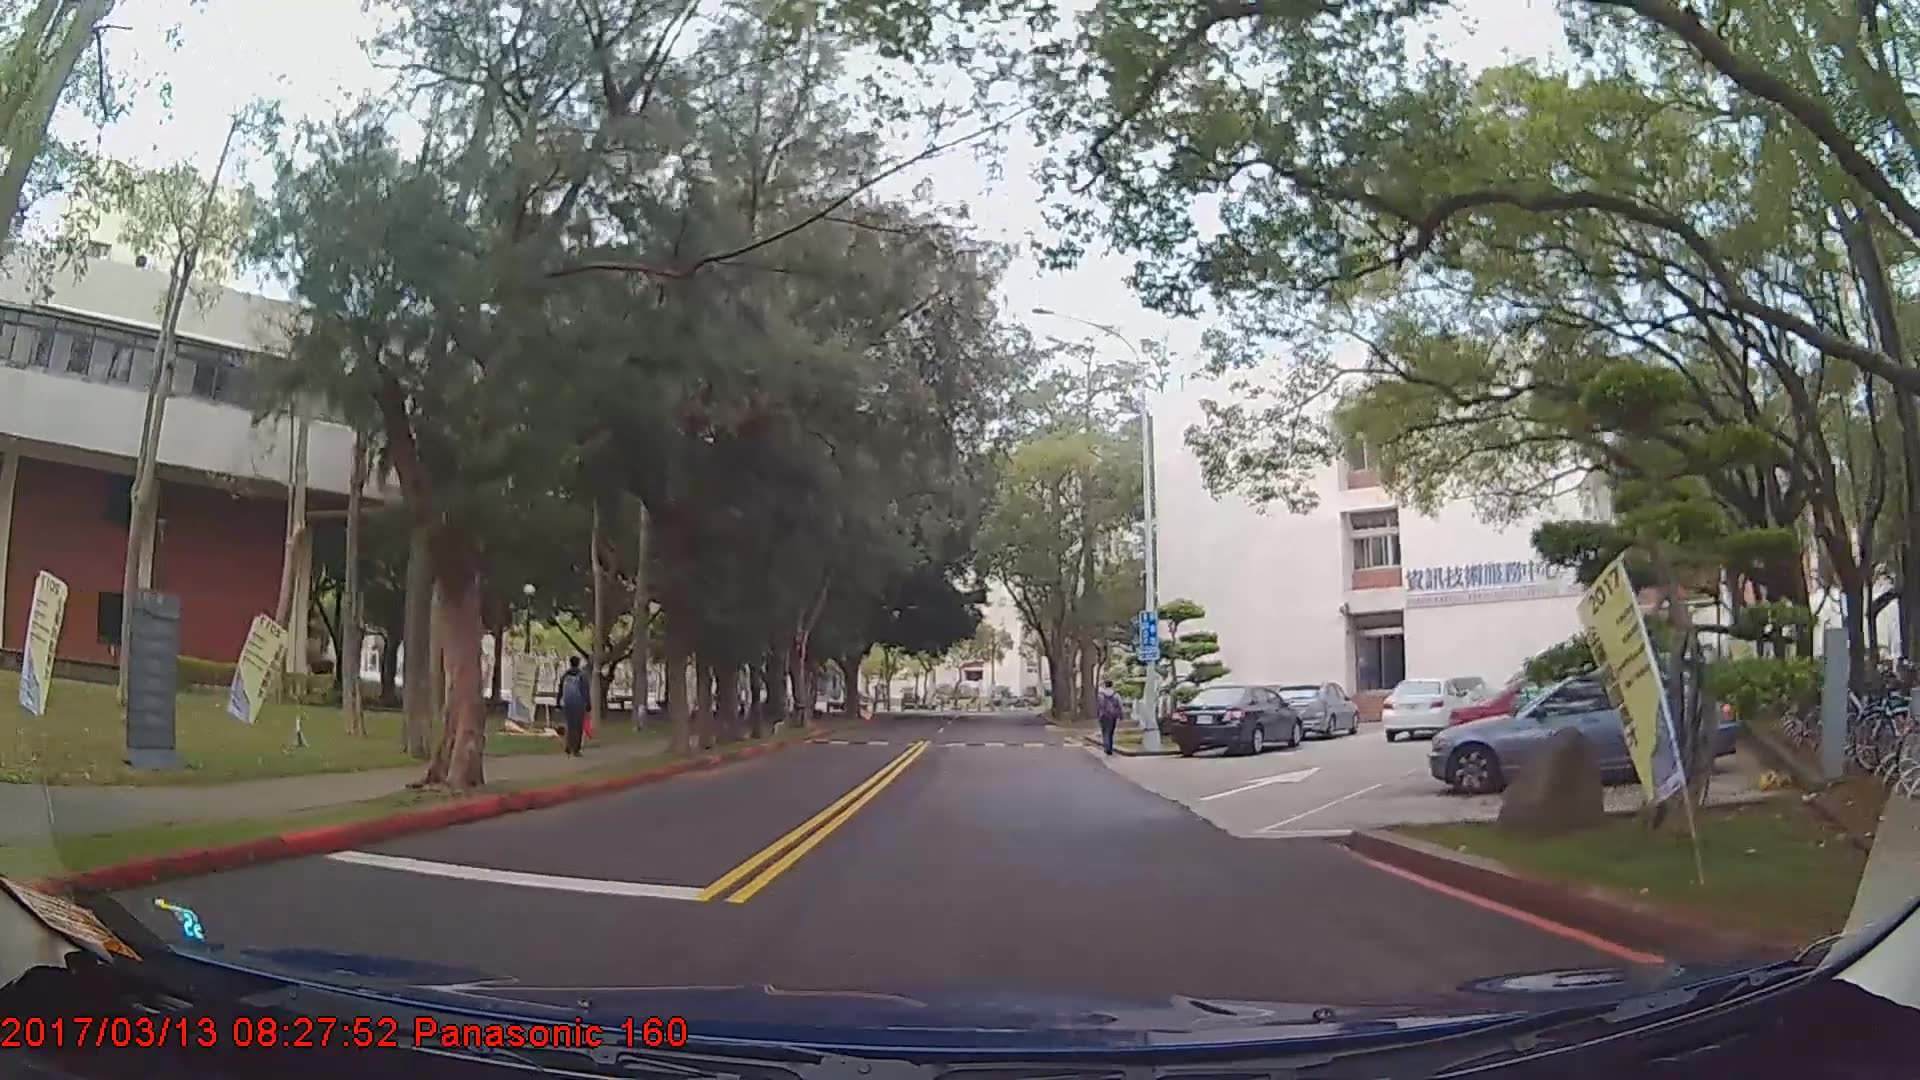pedestrian: (556, 657, 591, 757), (1095, 684, 1124, 761)
vehicle: (1428, 667, 1731, 798), (1170, 682, 1305, 757), (1377, 675, 1464, 741), (1276, 681, 1360, 741)
